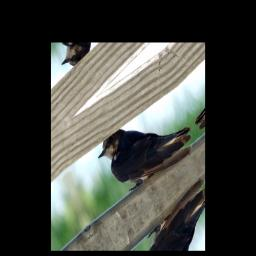Swallow: (94, 82, 198, 214)
